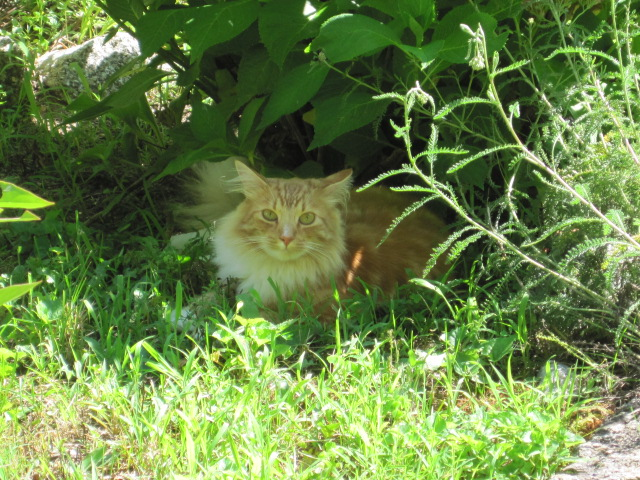cat: (171, 152, 460, 339)
